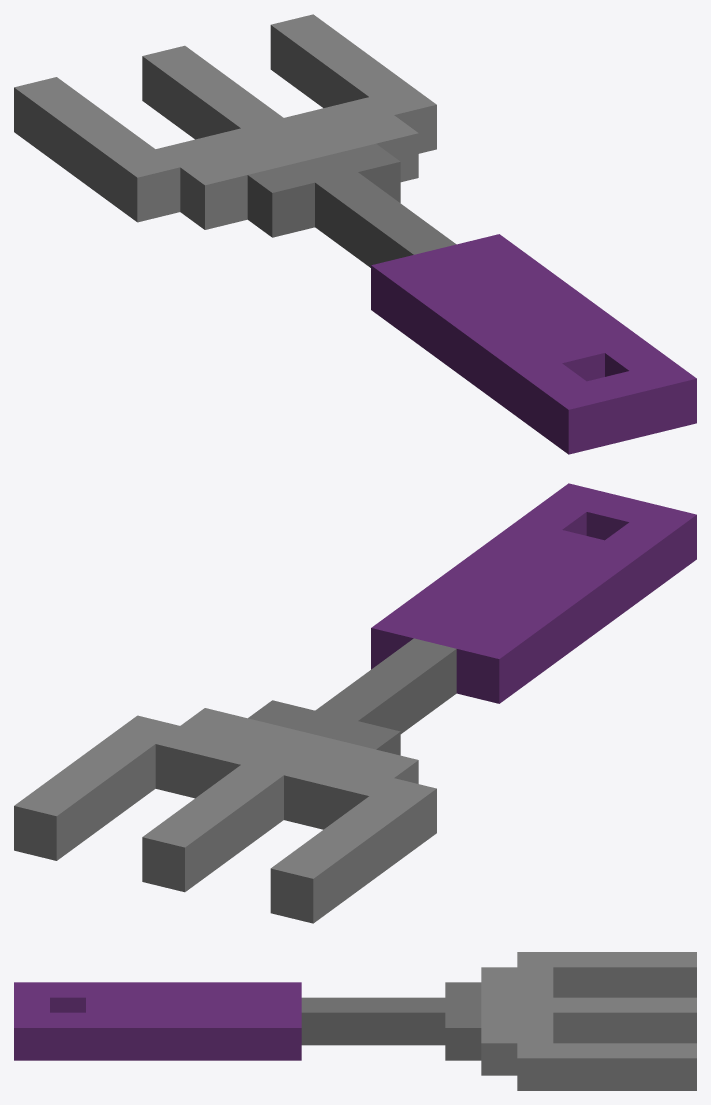
The model's file is Fork.fbx.
3 renders of one model, top to bottom at view 1: azimuth 30°, elevation 25°; view 2: azimuth 150°, elevation 25°; view 3: azimuth 270°, elevation 25°, orthographic. The views are drawn at different scales.
Parts seen in each view (by area): view 1: fork:fork; view 2: fork:fork; view 3: fork:fork.
Boxes of the visible parts, <box> form: fork:fork: <box>14,14,696,454</box>; fork:fork: <box>14,483,696,923</box>; fork:fork: <box>14,952,696,1090</box>.
Size of the model in its own units: 7 by 1 by 19.
